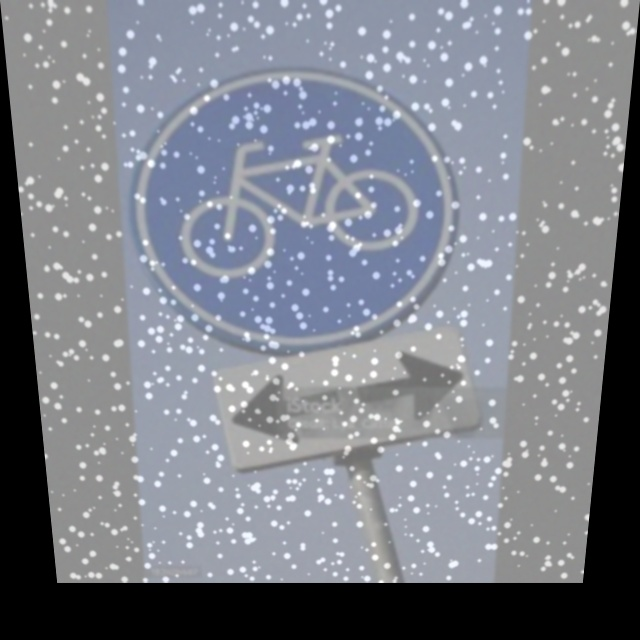Compulsory_Cycle_Track: (128, 68, 470, 321)
